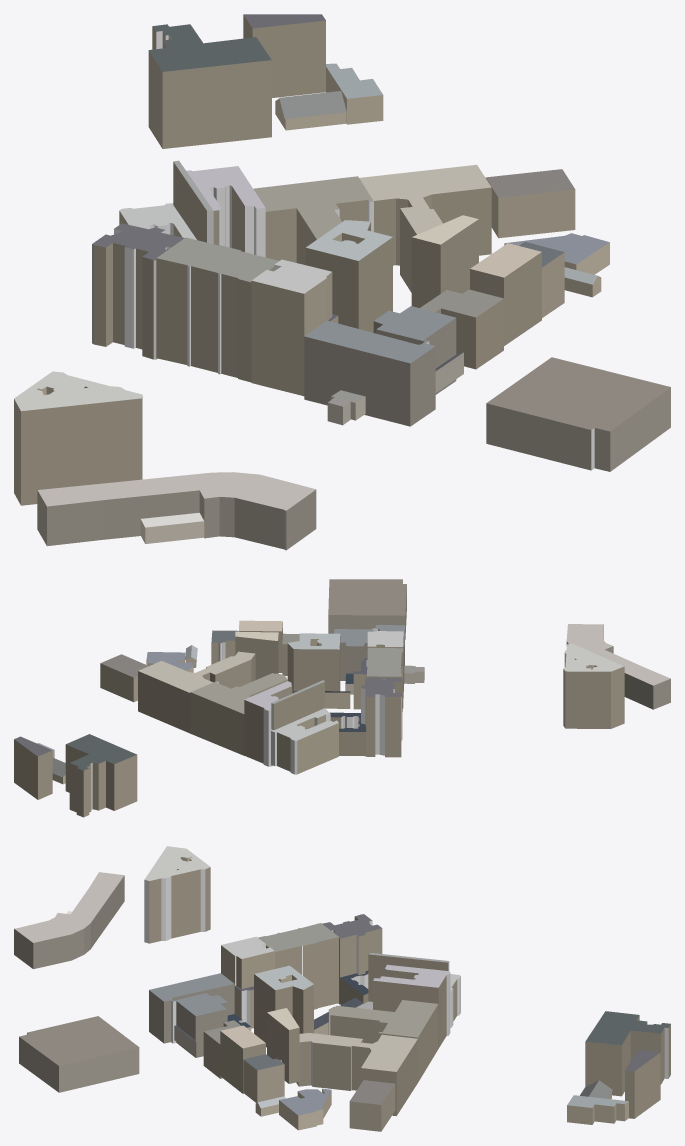
The picture shows the model from 3 angles, top to bottom: view 1: azimuth 30°, elevation 25°; view 2: azimuth 150°, elevation 25°; view 3: azimuth 270°, elevation 25°; orthographic projection. The views are drawn at different scales.
Visible parts, largest first — view 1: tuile; view 2: tuile; view 3: tuile.
Part boxes in pixels (bbox=[...]): tuile: bbox=[14, 14, 670, 550]; tuile: bbox=[14, 579, 670, 817]; tuile: bbox=[14, 846, 670, 1131].
Size of the model in its own units: 225 by 32.24 by 265.
